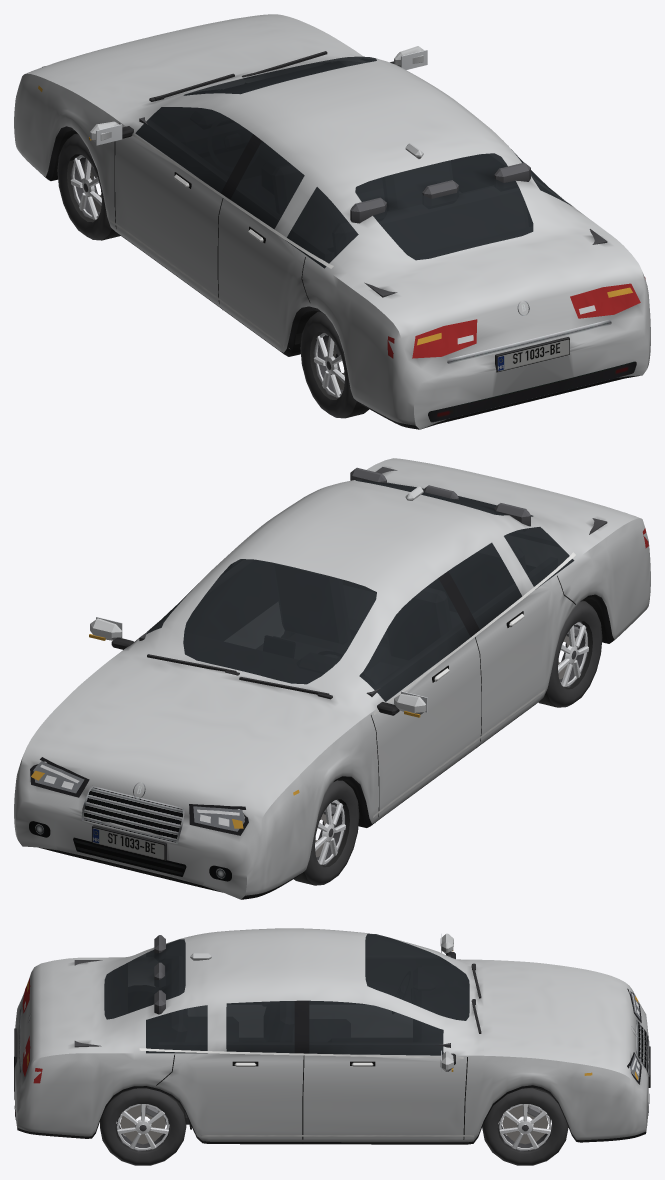
File: benzer.glb
3 views of the same model, one above another, from view 1: azimuth 30°, elevation 25°; view 2: azimuth 150°, elevation 25°; view 3: azimuth 270°, elevation 25° (orthographic). The views are drawn at different scales.
Parts seen in each view (by area): view 1: body, wheelmesh_2, wheelmesh_0; view 2: body, wheelmesh_2, wheelmesh_0; view 3: body, wheelmesh_3, wheelmesh_1.
Part boxes in pixels (x1=…): body: x1=14, y1=14, x2=650, y2=429; wheelmesh_2: x1=300, y1=311, x2=369, y2=418; wheelmesh_0: x1=57, y1=133, x2=120, y2=240; body: x1=14, y1=458, x2=650, y2=899; wheelmesh_2: x1=538, y1=600, x2=602, y2=707; wheelmesh_0: x1=294, y1=780, x2=359, y2=885; body: x1=14, y1=928, x2=650, y2=1144; wheelmesh_3: x1=100, y1=1088, x2=186, y2=1165; wheelmesh_1: x1=482, y1=1087, x2=568, y2=1165.
Size of the model in its own units: 2.39 by 1.44 by 5.
24 materials, 1 textured.
